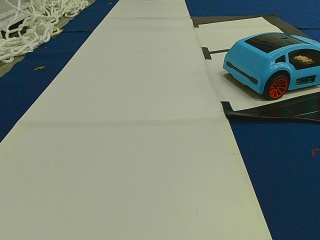car: (222, 30, 320, 98)
